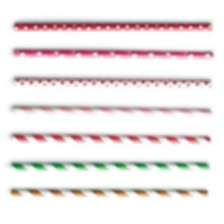drinking_straw: (6, 100, 217, 121), (8, 73, 217, 94), (6, 130, 215, 149), (8, 45, 217, 64), (9, 17, 216, 36), (6, 183, 212, 202), (6, 158, 213, 175)
